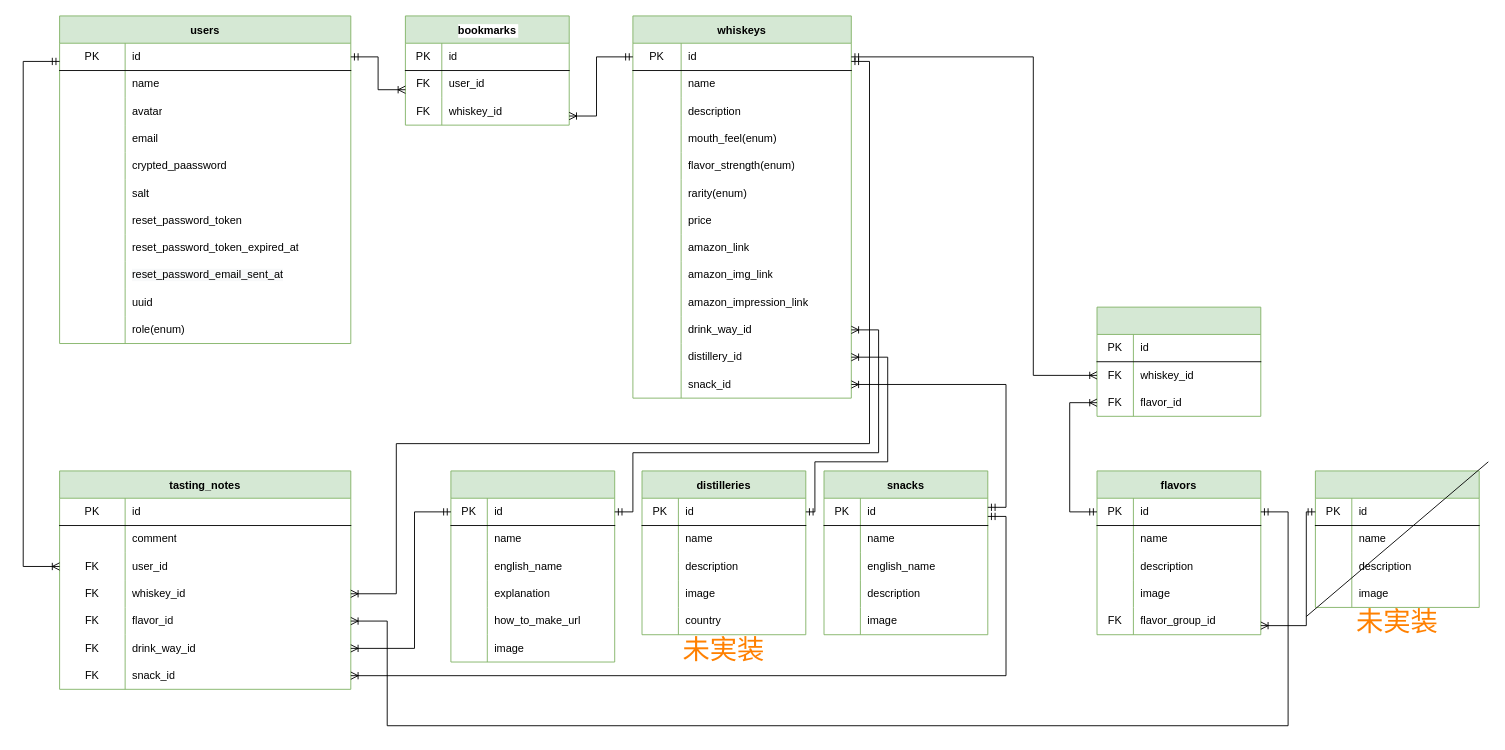
The diagram is 1505 pixels wide and 750 high, and some of its shapes have lost their labels. Each missing label, with the box of its shape:
drink_ways: (450, 470, 615, 662)
flavor_groups: (1314, 470, 1479, 607)
whiskeies_with_flavors: (1096, 306, 1261, 416)
